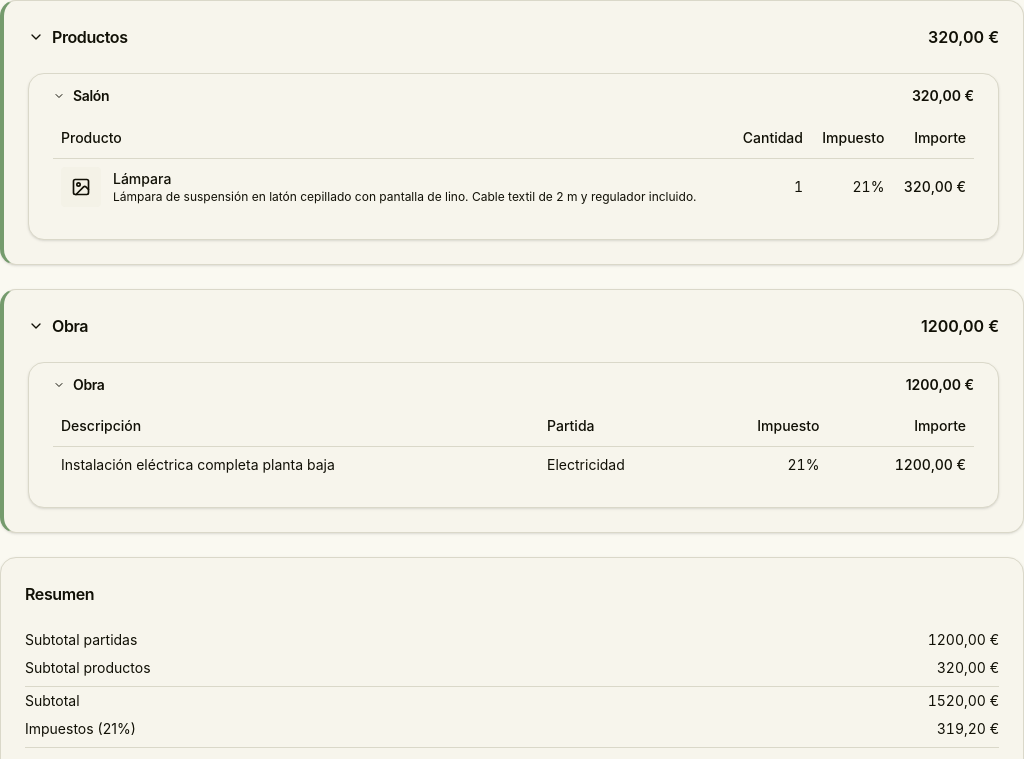
Test case: ViewProjectCostsClient descriptions › expands a truncated budget line description on click
Click the button "Instalación eléctrica completa planta baja".
click(198, 465)  # box [61, 455, 335, 475]
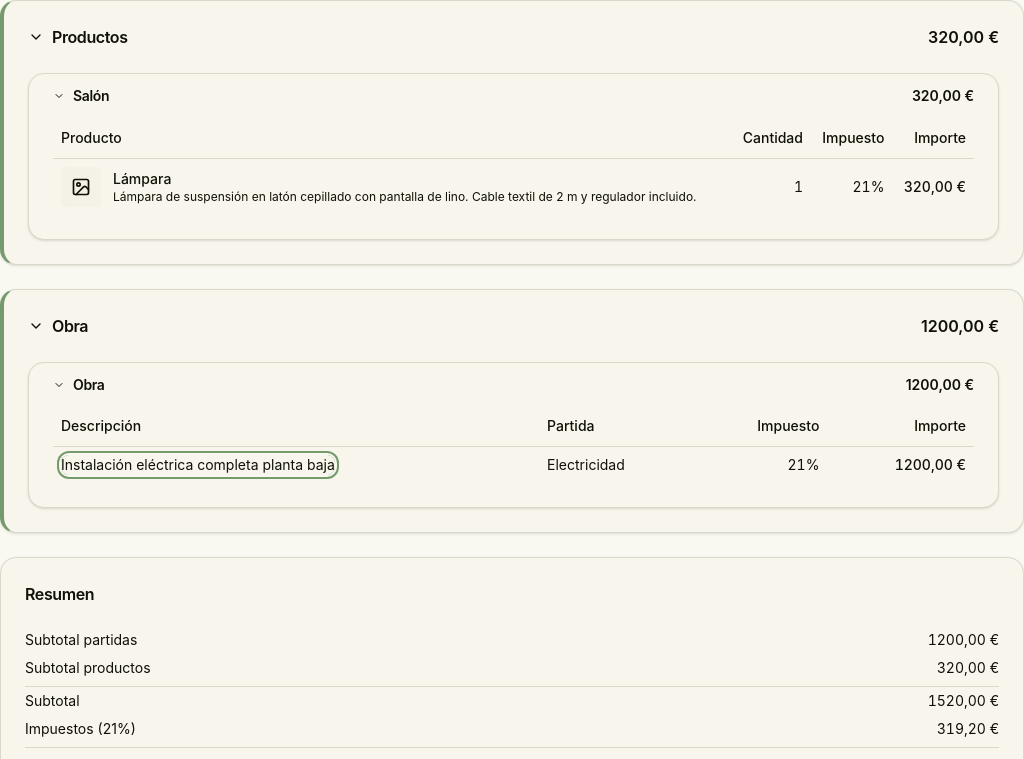
Expected: the button "Instalación eléctrica completa planta baja" is expanded, [61, 455, 335, 475]
